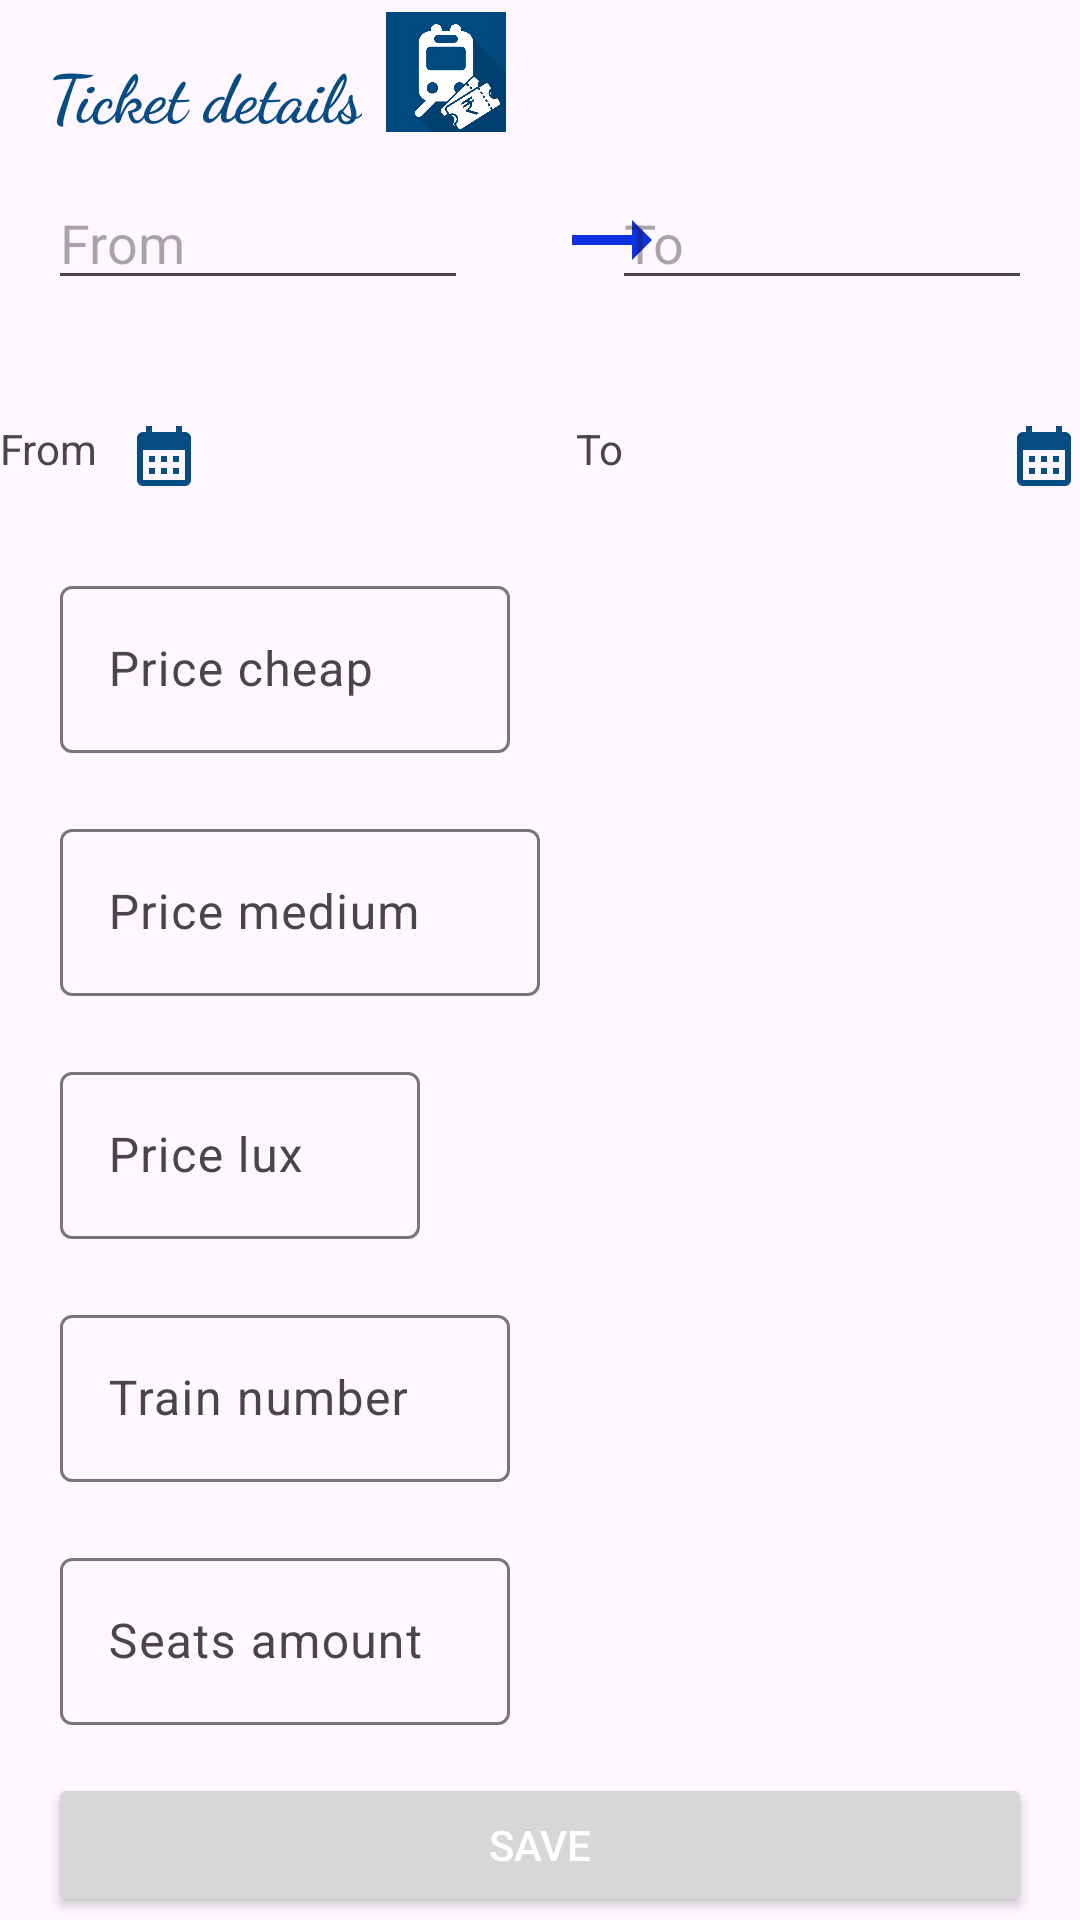

Where icons sit on this 1080 x 1920 app screen, as (x1, y1, x2, y2):
calendar: (137, 426, 191, 486), (1017, 426, 1071, 486)
right arrow: (572, 220, 655, 264)
